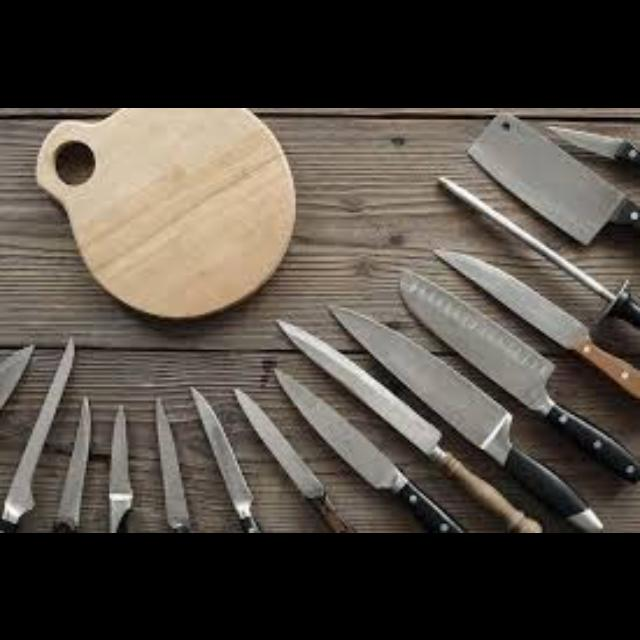Knife: (326, 303, 602, 531), (396, 268, 638, 484), (435, 173, 637, 377), (272, 366, 470, 530), (466, 110, 638, 244), (233, 386, 361, 530), (0, 336, 74, 530), (189, 384, 265, 530), (542, 121, 638, 225), (50, 394, 90, 530), (154, 396, 192, 530), (108, 403, 132, 531)
